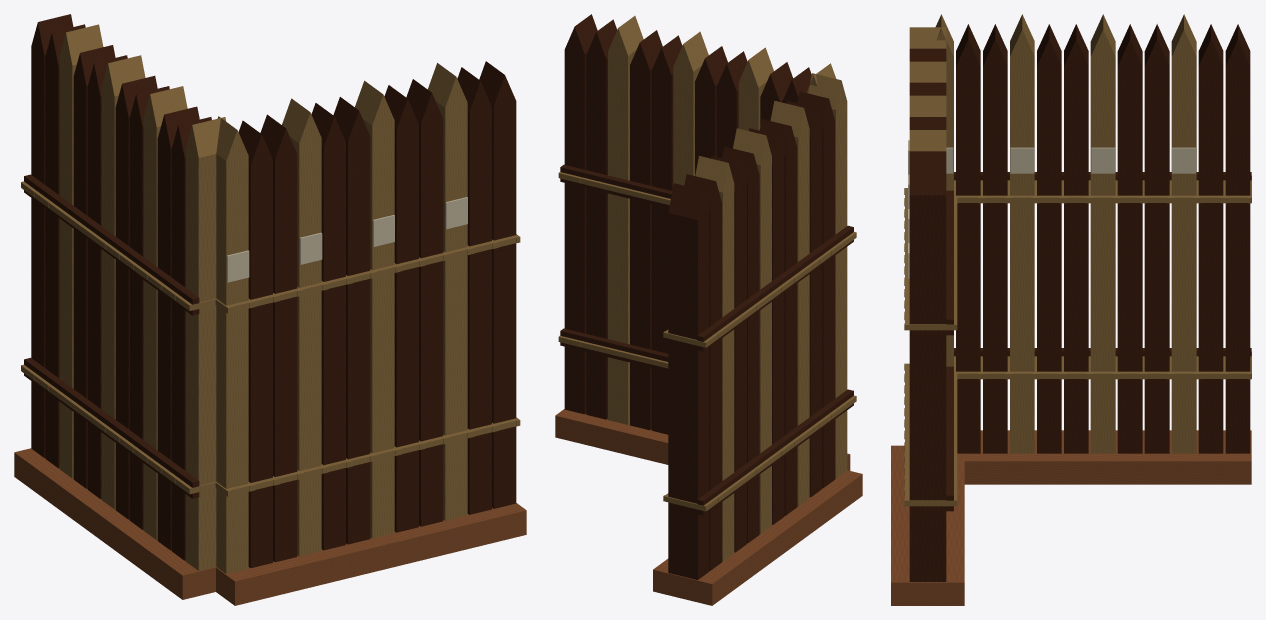
Rendered from Berber_Palisade_Age1_corner_90.fbx.
3 views of the same model, side by side, from view 1: azimuth 30°, elevation 25°; view 2: azimuth 150°, elevation 25°; view 3: azimuth 270°, elevation 25° (orthographic). The views are drawn at different scales.
Visible parts, largest first — view 1: palm_split_post.067, palm_split_post.070, palm_split_post.063, palm_split_post.065, palm_split_post.060, earth_seat.009, palm_split_post.069, palm_split_post.066, palm_split_post.072, continuous_rear_tie.009, front_lashing.009, back_lashing.009 (+2 smaller); view 2: palm_split_post.070, palm_split_post.067, palm_split_post.065, palm_split_post.072, palm_split_post.063, earth_seat.009, palm_split_post.069, continuous_rear_tie.009, palm_split_post.066, palm_split_post.060, back_lashing.009, lashing_side.009; view 3: palm_split_post.070, palm_split_post.067, palm_split_post.065, palm_split_post.063, earth_seat.009, palm_split_post.069, palm_split_post.072, palm_split_post.066, front_lashing.009, lashing_side.009, continuous_rear_tie.009, neutral_owner_painted_stripe.009 (+2 smaller).
Part boxes in pixels (left/top/right/bottom): palm_split_post.067: left=73, top=45, right=443, bottom=550; palm_split_post.070: left=31, top=14, right=516, bottom=532; palm_split_post.063: left=115, top=75, right=370, bottom=568; palm_split_post.065: left=45, top=24, right=491, bottom=562; palm_split_post.060: left=186, top=116, right=248, bottom=574; earth_seat.009: left=14, top=448, right=526, bottom=605; palm_split_post.069: left=101, top=55, right=394, bottom=538; palm_split_post.066: left=143, top=86, right=321, bottom=556; palm_split_post.072: left=59, top=24, right=467, bottom=520; continuous_rear_tie.009: left=24, top=174, right=199, bottom=498; front_lashing.009: left=226, top=235, right=518, bottom=495; back_lashing.009: left=21, top=182, right=191, bottom=493; palm_split_post.070: left=564, top=14, right=759, bottom=579; palm_split_post.067: left=630, top=30, right=797, bottom=552; palm_split_post.065: left=586, top=19, right=822, bottom=570; palm_split_post.072: left=608, top=16, right=734, bottom=561; palm_split_post.063: left=695, top=46, right=834, bottom=524; earth_seat.009: left=555, top=409, right=862, bottom=605; palm_split_post.069: left=673, top=31, right=771, bottom=533; continuous_rear_tie.009: left=560, top=164, right=853, bottom=515; palm_split_post.066: left=738, top=47, right=809, bottom=506; palm_split_post.060: left=806, top=63, right=847, bottom=478; back_lashing.009: left=559, top=172, right=856, bottom=510; lashing_side.009: left=558, top=172, right=856, bottom=511; palm_split_post.070: left=909, top=24, right=1250, bottom=581; palm_split_post.067: left=909, top=24, right=1169, bottom=453; palm_split_post.065: left=909, top=24, right=1223, bottom=453; palm_split_post.063: left=909, top=24, right=1088, bottom=453; earth_seat.009: left=891, top=430, right=1251, bottom=605; palm_split_post.069: left=909, top=14, right=1115, bottom=453; palm_split_post.072: left=909, top=14, right=1196, bottom=453; palm_split_post.066: left=909, top=14, right=1034, bottom=453; front_lashing.009: left=905, top=188, right=1250, bottom=499; lashing_side.009: left=904, top=176, right=1251, bottom=506; continuous_rear_tie.009: left=946, top=172, right=1251, bottom=511; neutral_owner_painted_stripe.009: left=908, top=140, right=1195, bottom=278.
Bounding box in the file's own units: 334 × 458 × 334.
Materials: 4 (4 with a texture image).
